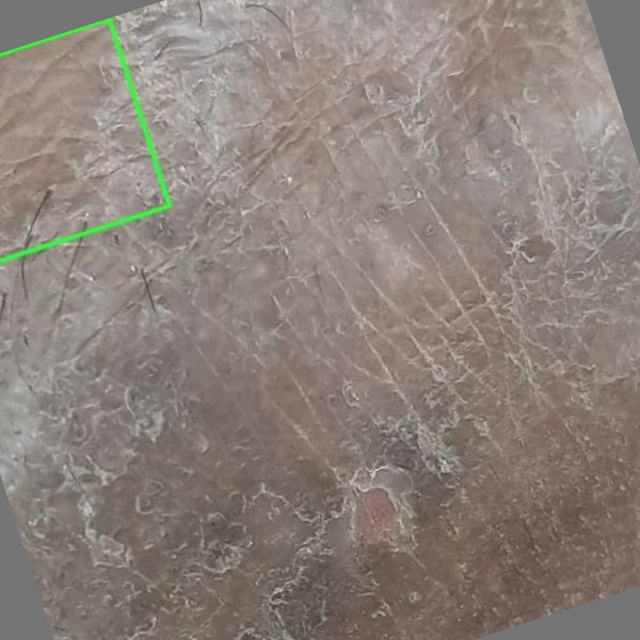Eczema: (0, 18, 169, 260)
